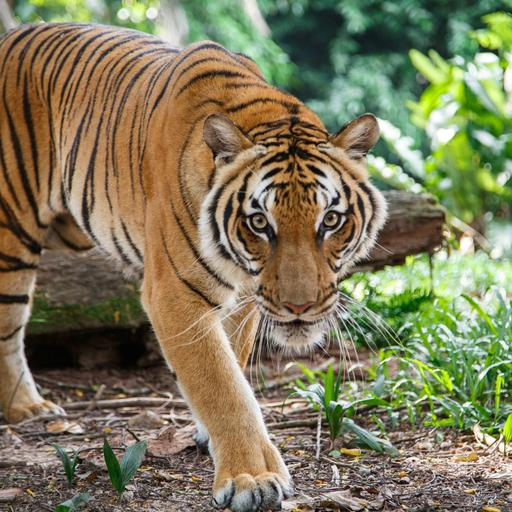Tiger: (0, 0, 412, 512)
